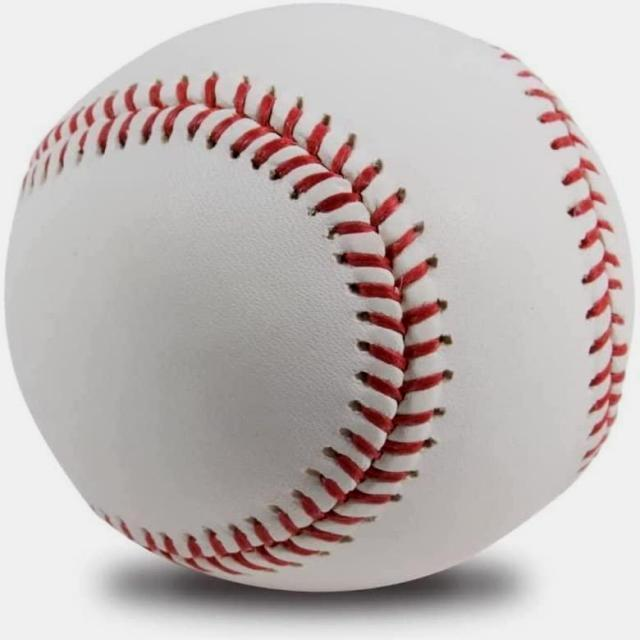ball: (0, 0, 638, 598)
